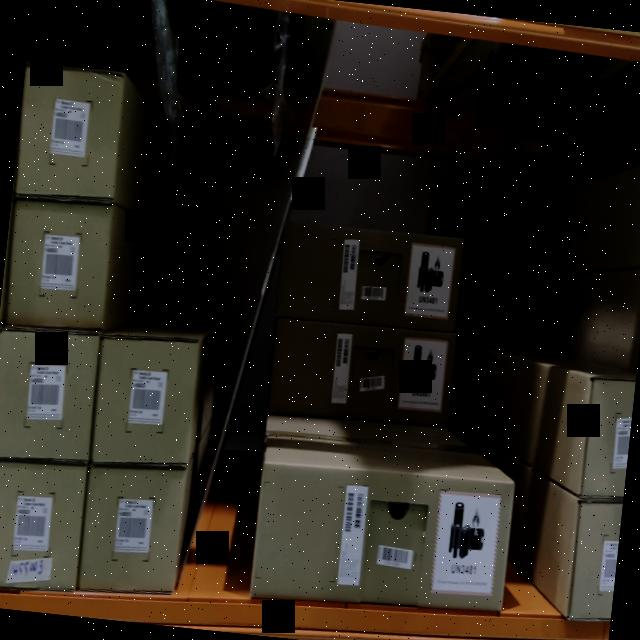box: (251, 458, 515, 613), (274, 212, 470, 336), (268, 316, 460, 432), (2, 194, 118, 332), (12, 66, 126, 203), (90, 332, 202, 466), (76, 462, 185, 596), (0, 323, 102, 462), (0, 456, 91, 595)
